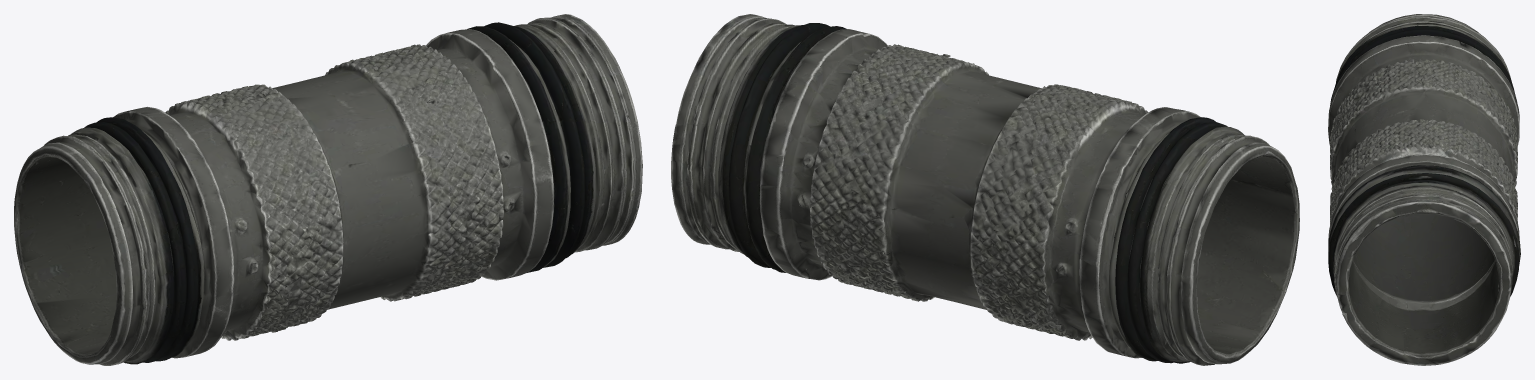
The model's file is carcasa.glb.
3 renders of one model, left to right at view 1: azimuth 30°, elevation 25°; view 2: azimuth 150°, elevation 25°; view 3: azimuth 270°, elevation 25°, orthographic. The views are drawn at different scales.
Size of the model in its own units: 1.9 by 0.8009 by 0.7997.
Materials: 1 (1 with a texture image).
